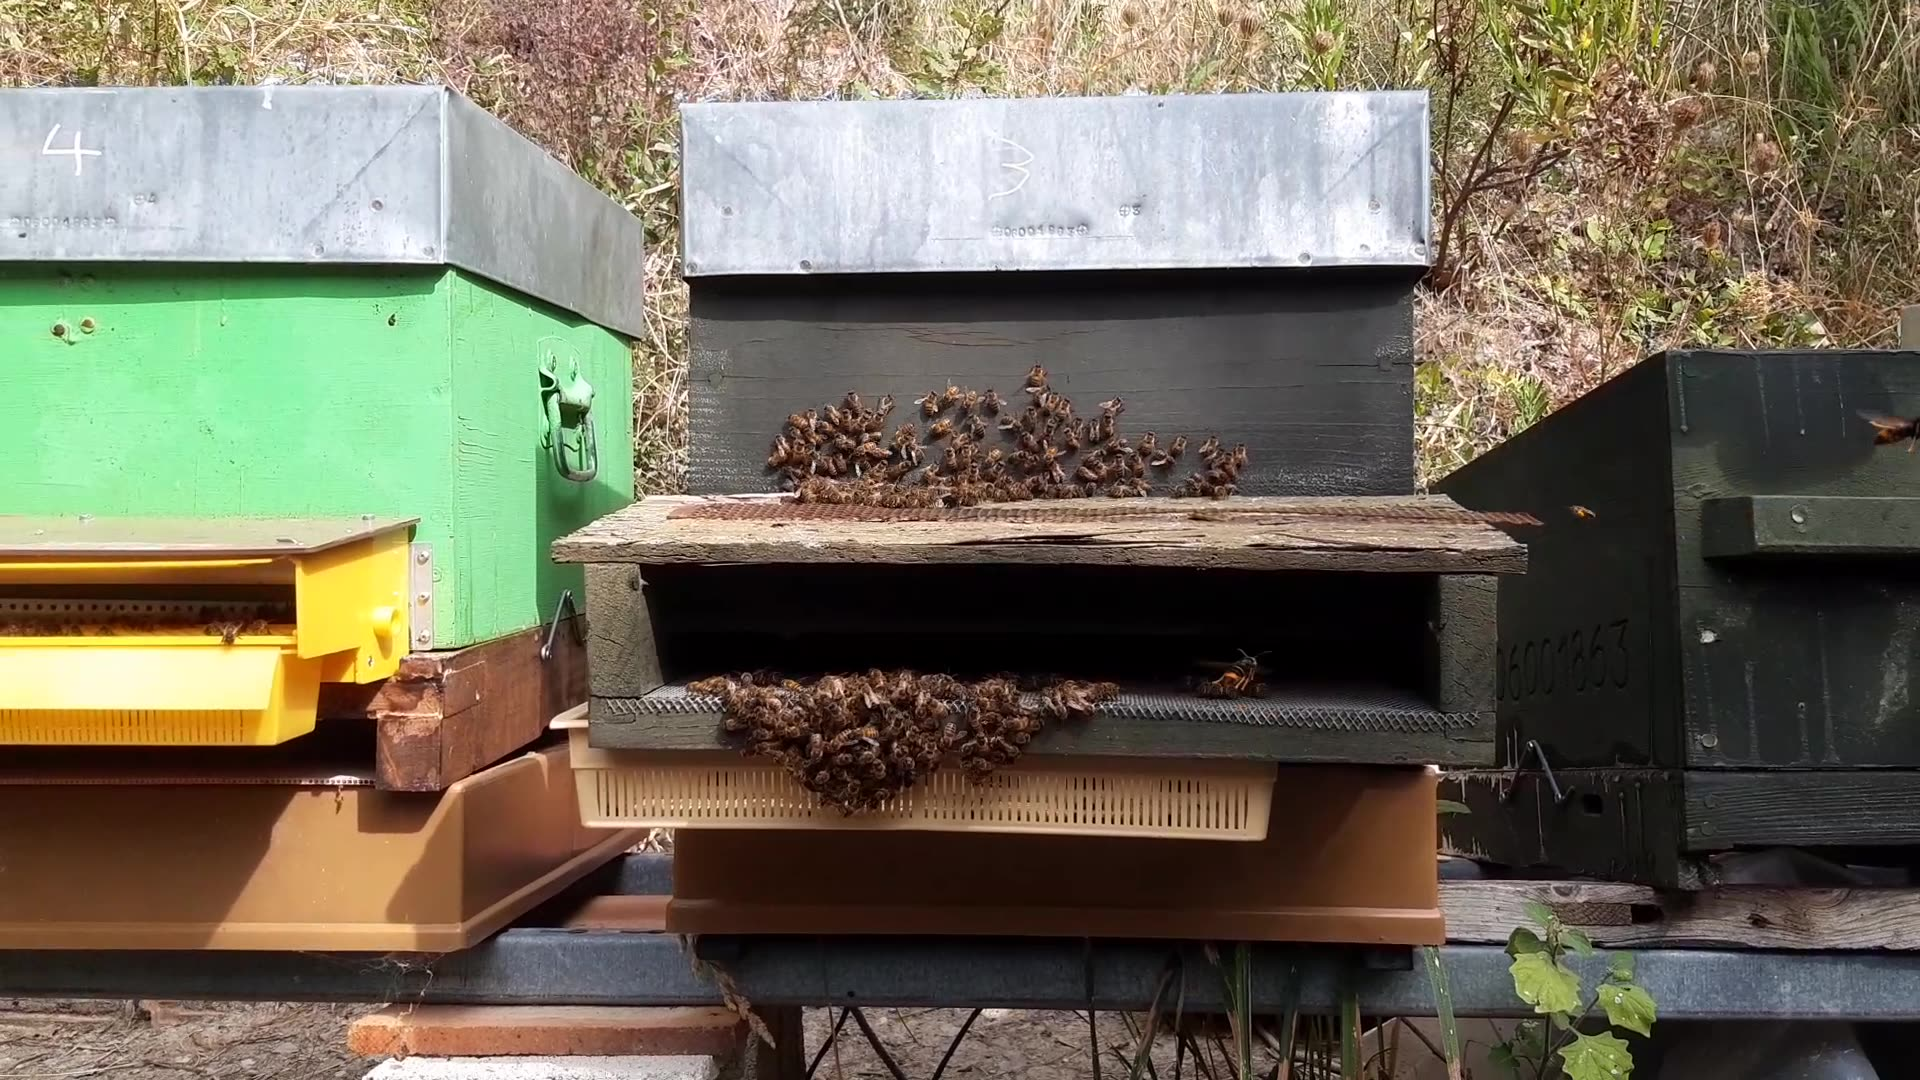bee: (827, 731, 922, 820), (1011, 673, 1122, 731), (750, 724, 828, 800), (703, 680, 783, 744), (1163, 442, 1245, 498), (936, 456, 1010, 517), (804, 405, 881, 458), (1023, 450, 1093, 505), (836, 444, 902, 500), (1029, 398, 1095, 448), (959, 377, 1017, 418)
hornet: (1863, 400, 1916, 462)
